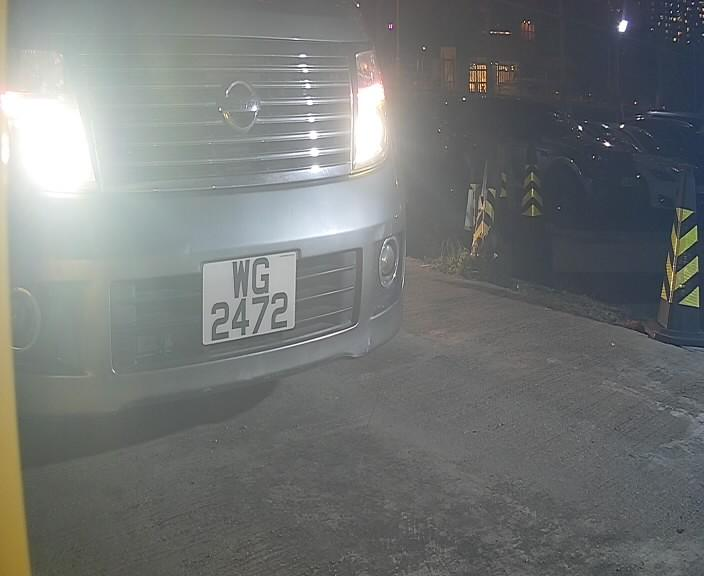License Plate: (186, 242, 305, 355)
